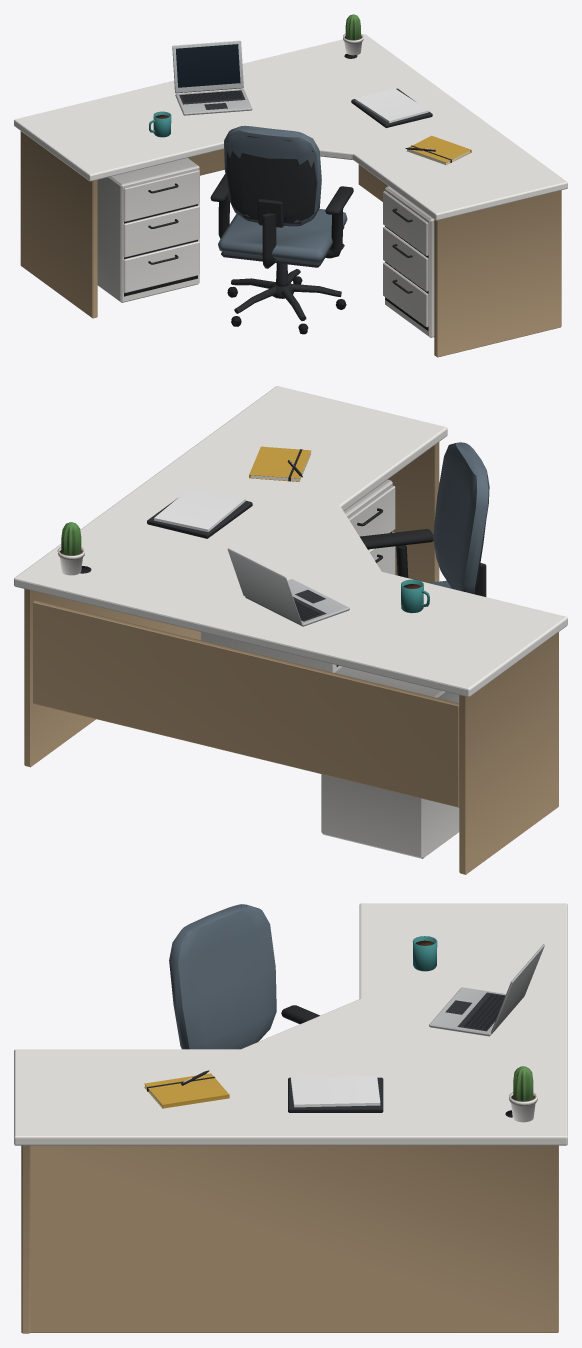
The model's file is deskCorner.glb.
3 renders of one model, top to bottom at view 1: azimuth 30°, elevation 25°; view 2: azimuth 150°, elevation 25°; view 3: azimuth 270°, elevation 25°, orthographic. The views are drawn at different scales.
Parts seen in each view (by area): view 1: deskCorner; view 2: deskCorner; view 3: deskCorner.
Boxes of the visible parts, x1=… form: deskCorner: x1=14, y1=14, x2=567, y2=357; deskCorner: x1=14, y1=386, x2=567, y2=874; deskCorner: x1=14, y1=903, x2=567, y2=1333.
Size of the model in its own units: 1.86 by 1.01 by 1.86.
